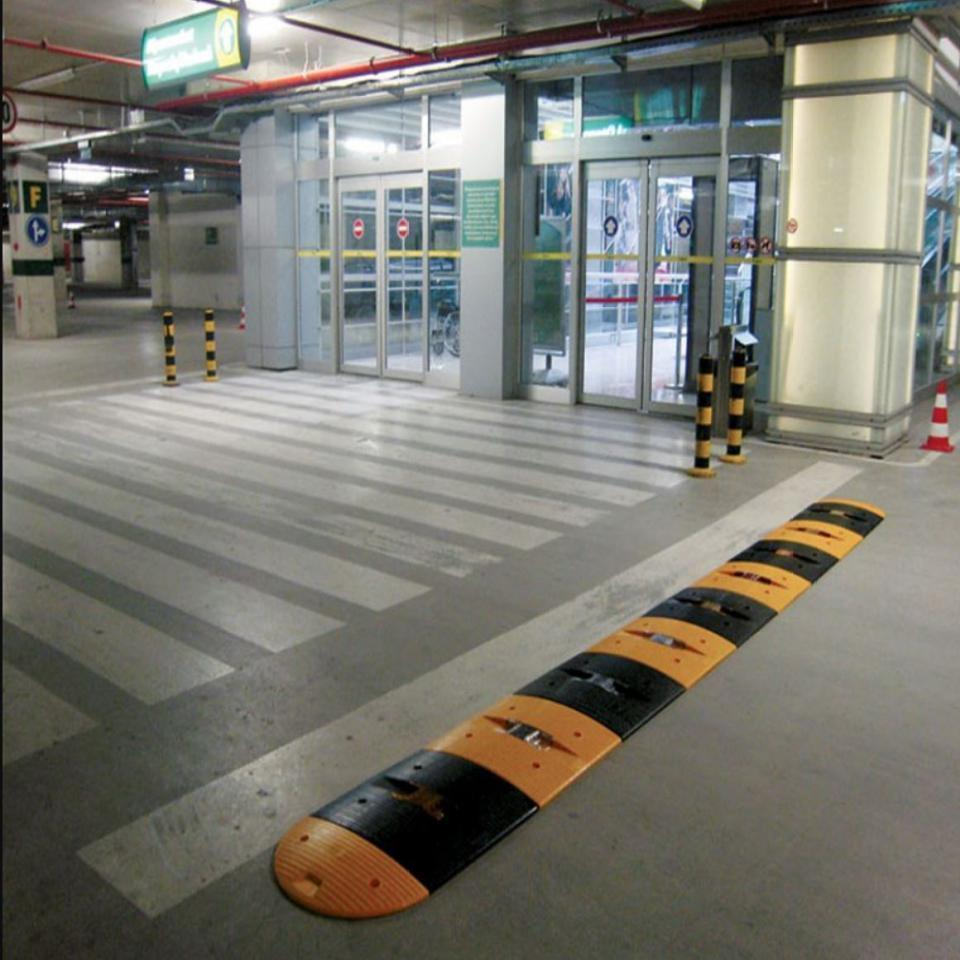speedbreaker: (292, 764, 506, 861), (514, 671, 588, 802), (600, 626, 714, 694), (750, 504, 802, 610), (812, 494, 870, 555), (709, 572, 757, 632)
